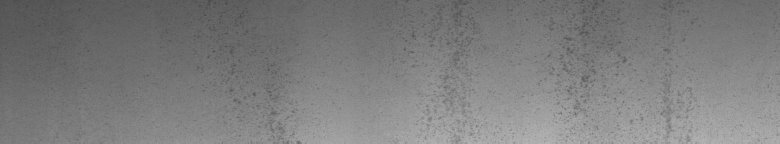ib: (403, 34, 473, 132)
